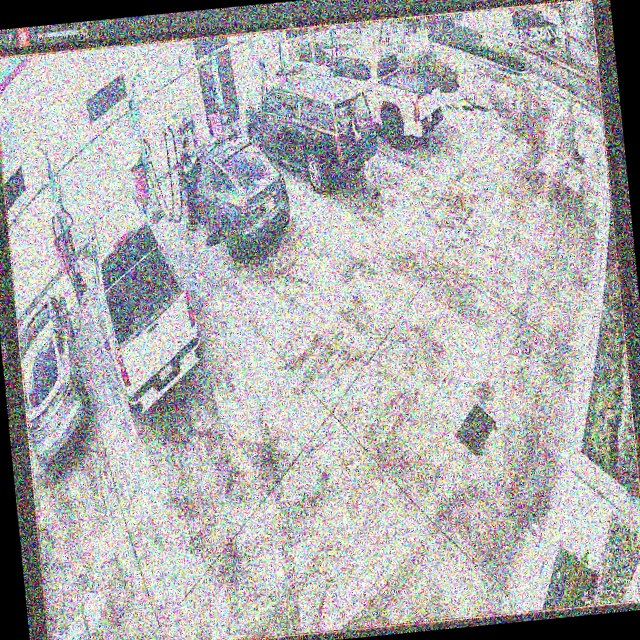Car: (82, 192, 208, 419), (241, 67, 380, 188), (177, 125, 294, 263)
